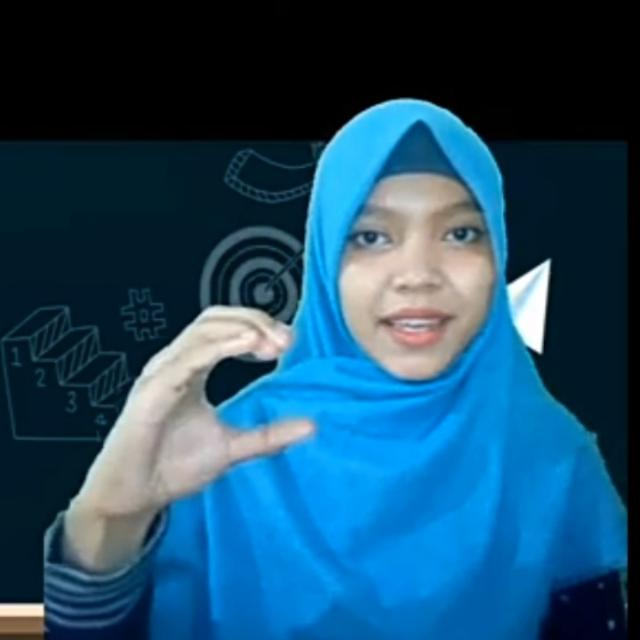C: (110, 304, 314, 508)
